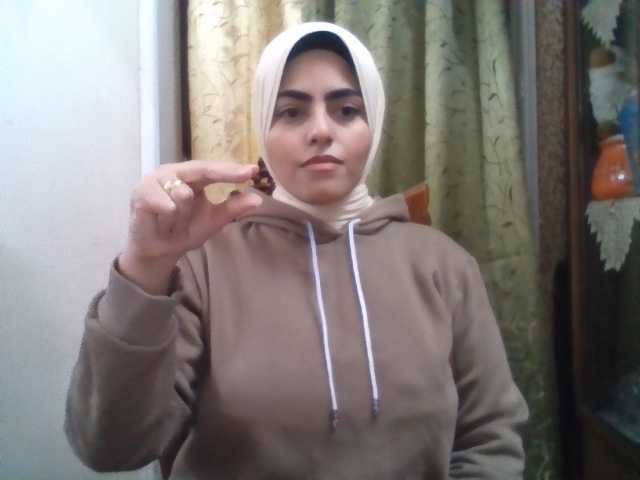no: (125, 160, 263, 261)
